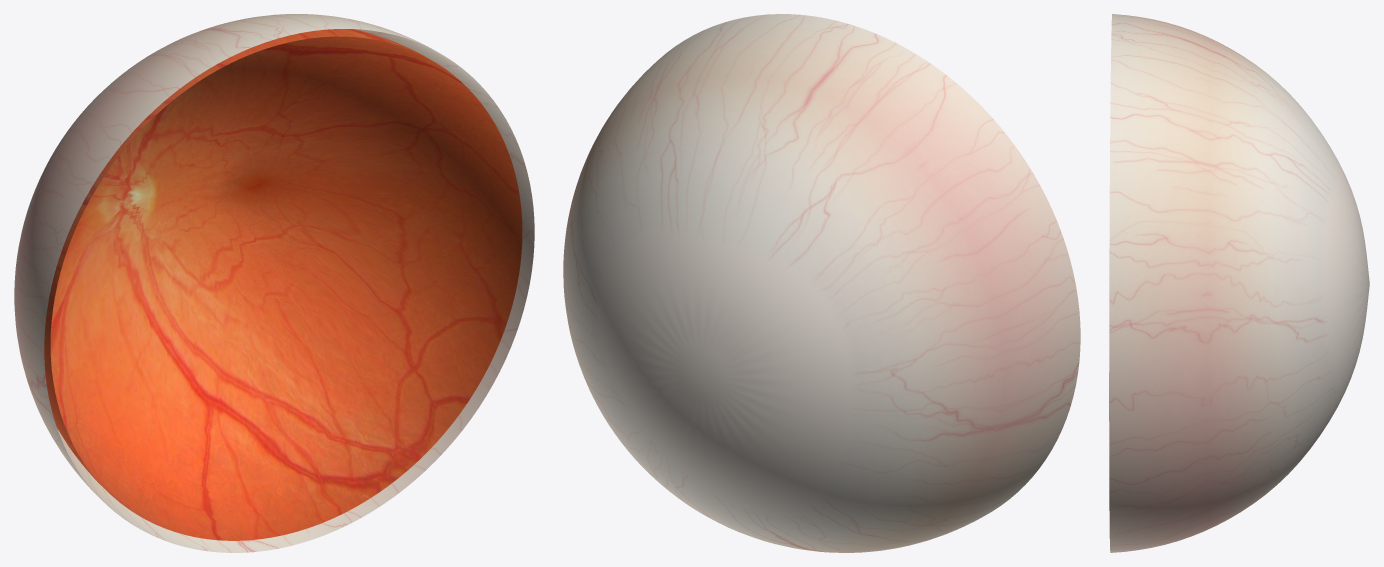
The model's file is retinografia.glb.
3 renders of one model, left to right at view 1: azimuth 30°, elevation 25°; view 2: azimuth 150°, elevation 25°; view 3: azimuth 270°, elevation 25°, orthographic. The views are drawn at different scales.
Visible parts, largest first — view 1: retina, ojo; view 2: ojo; view 3: ojo.
Boxes of the visible parts, x1,y1,x2,y2 form: retina: (44, 29, 522, 540); ojo: (14, 14, 534, 552); ojo: (563, 14, 1080, 552); ojo: (1109, 14, 1369, 552).
Bounding box in the file's own units: 4.21 × 4.21 × 2.04.
2 materials, 2 textured.
